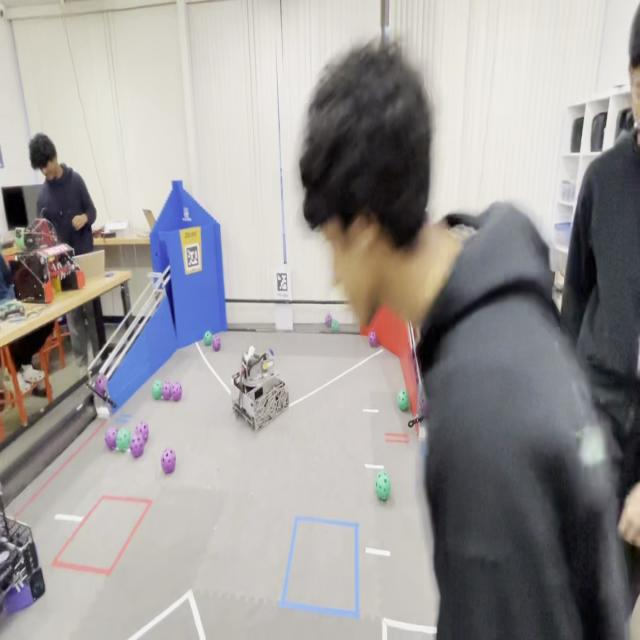artifact_green: (376, 472, 390, 501), (116, 428, 131, 451), (94, 374, 107, 397), (398, 391, 409, 411), (419, 390, 427, 417), (14, 229, 24, 250), (152, 380, 162, 399), (204, 331, 212, 346), (331, 319, 339, 332), (325, 314, 332, 328)
artifact_purple: (161, 448, 176, 473), (130, 433, 144, 458), (105, 426, 118, 450), (94, 375, 107, 396), (135, 422, 148, 442), (172, 383, 182, 400), (420, 393, 427, 416), (162, 383, 171, 399), (369, 331, 377, 347), (212, 336, 220, 351), (325, 314, 332, 327)
